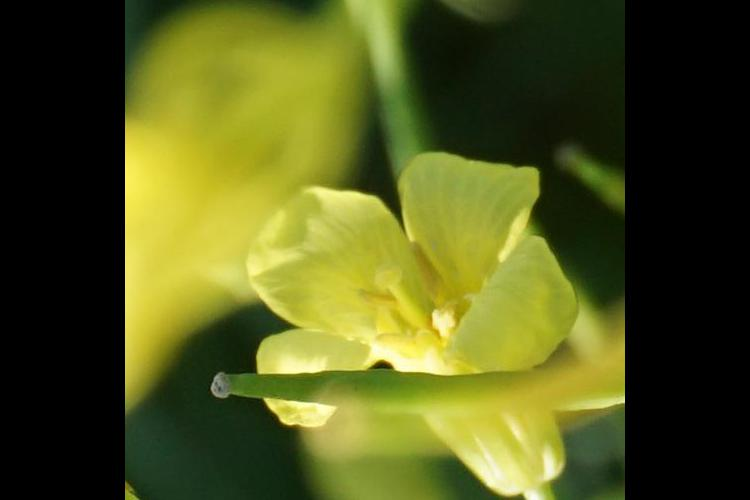pod: (204, 352, 587, 427)
yellow: (255, 180, 572, 500)
